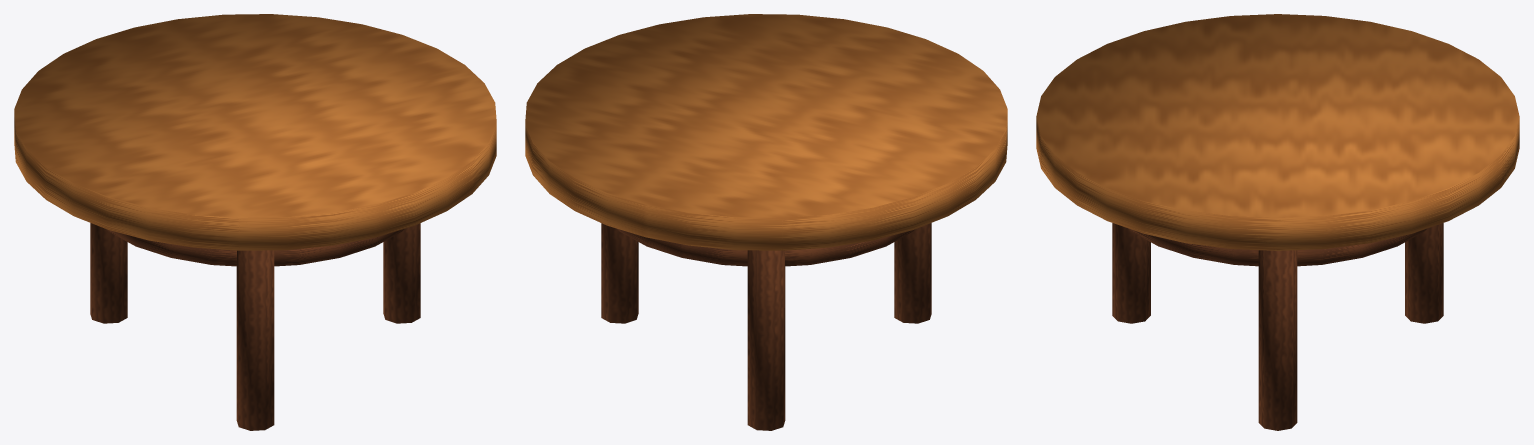
Rendered from coffee_table_round.glb.
3 views of the same model, side by side, from view 1: azimuth 30°, elevation 25°; view 2: azimuth 150°, elevation 25°; view 3: azimuth 270°, elevation 25° (orthographic).
Parts seen in each view (by area): view 1: Cylinder, Cylinder.003, Cylinder.002, Cylinder.001, Cylinder.004; view 2: Cylinder, Cylinder.002, Cylinder.003, Cylinder.001, Cylinder.004; view 3: Cylinder, Cylinder.001, Cylinder.002, Cylinder.003, Cylinder.004.
Boxes of the visible parts, box(x1,y1,x2,y2) form: Cylinder: box(14, 14, 496, 250); Cylinder.003: box(236, 250, 274, 430); Cylinder.002: box(90, 223, 127, 323); Cylinder.001: box(383, 223, 420, 323); Cylinder.004: box(107, 229, 404, 266); Cylinder: box(525, 14, 1007, 250); Cylinder.002: box(747, 250, 785, 430); Cylinder.003: box(894, 223, 931, 323); Cylinder.001: box(601, 223, 638, 323); Cylinder.004: box(617, 229, 914, 266); Cylinder: box(1036, 14, 1519, 250); Cylinder.001: box(1258, 250, 1297, 430); Cylinder.002: box(1405, 223, 1443, 323); Cylinder.003: box(1112, 223, 1150, 323); Cylinder.004: box(1128, 228, 1427, 266).
Size of the model in its own units: 0.2 by 0.1075 by 0.2.
Materials: 2 (2 with a texture image).
